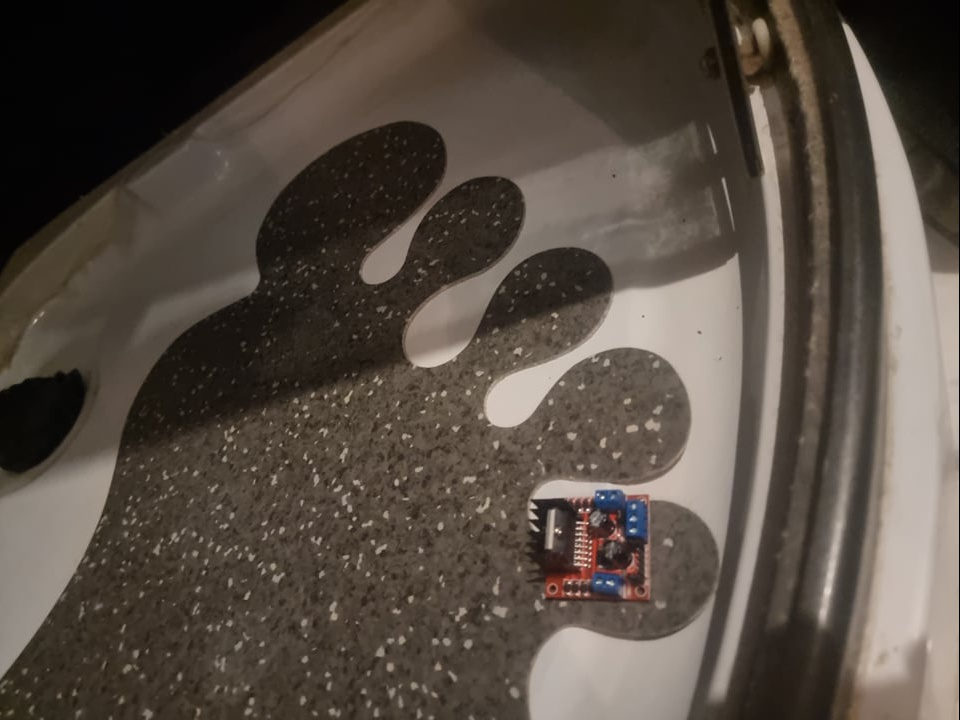MOTOR: (532, 486, 652, 606)
